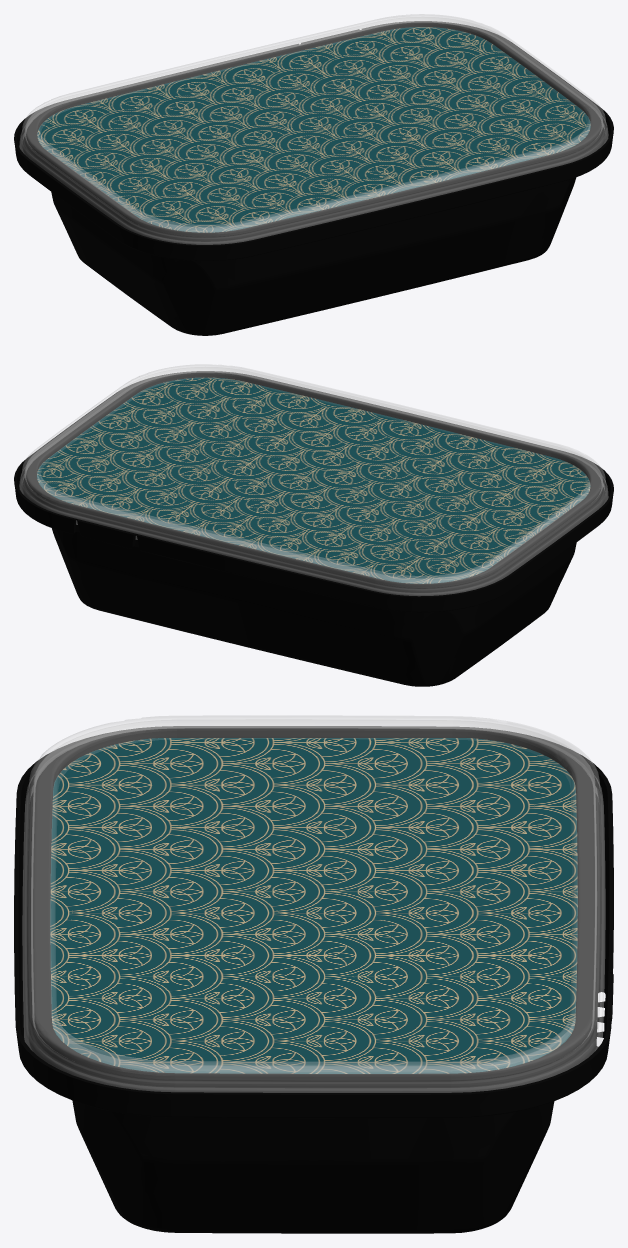
File: 750ml rect new.glb
3 views of the same model, one above another, from view 1: azimuth 30°, elevation 25°; view 2: azimuth 150°, elevation 25°; view 3: azimuth 270°, elevation 25° (orthographic). The views are drawn at different scales.
Parts seen in each view (by area): view 1: Plane.003, empty_2, empty_3; view 2: Plane.003, empty_2, empty_3; view 3: Plane.003, empty_2, empty_3.
Boxes of the visible parts, left/top/right/bottom form: Plane.003: left=37, top=27, right=590, bottom=232; empty_2: left=14, top=21, right=613, bottom=335; empty_3: left=19, top=14, right=608, bottom=244; Plane.003: left=37, top=377, right=590, bottom=583; empty_2: left=14, top=371, right=613, bottom=686; empty_3: left=19, top=364, right=608, bottom=595; Plane.003: left=50, top=738, right=577, bottom=1073; empty_2: left=14, top=726, right=613, bottom=1233; empty_3: left=22, top=715, right=605, bottom=1092.
Bounding box in the file's own units: 0.1926 × 0.0498 × 0.1328.
6 materials, 2 textured.
